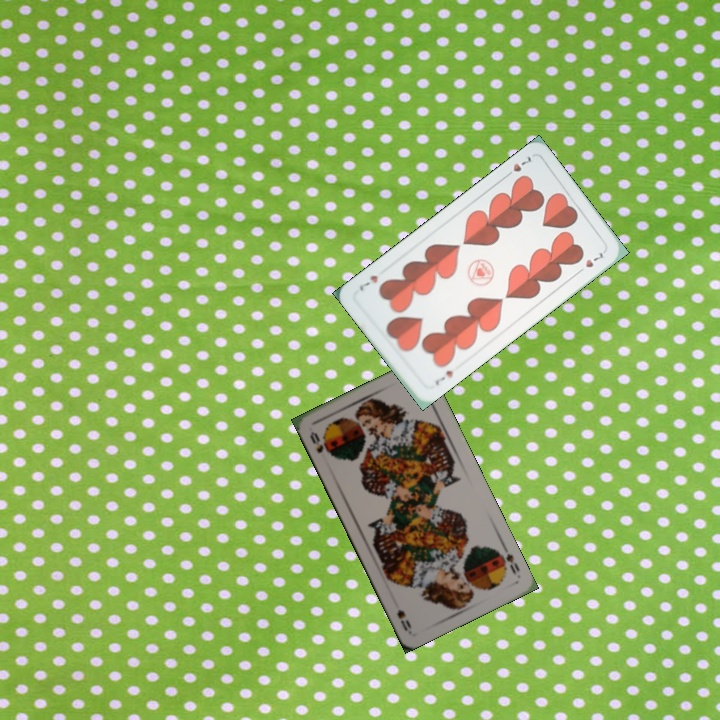H7: (500, 152, 535, 181), (431, 366, 456, 388)
SO: (493, 541, 523, 580), (306, 427, 334, 460)
